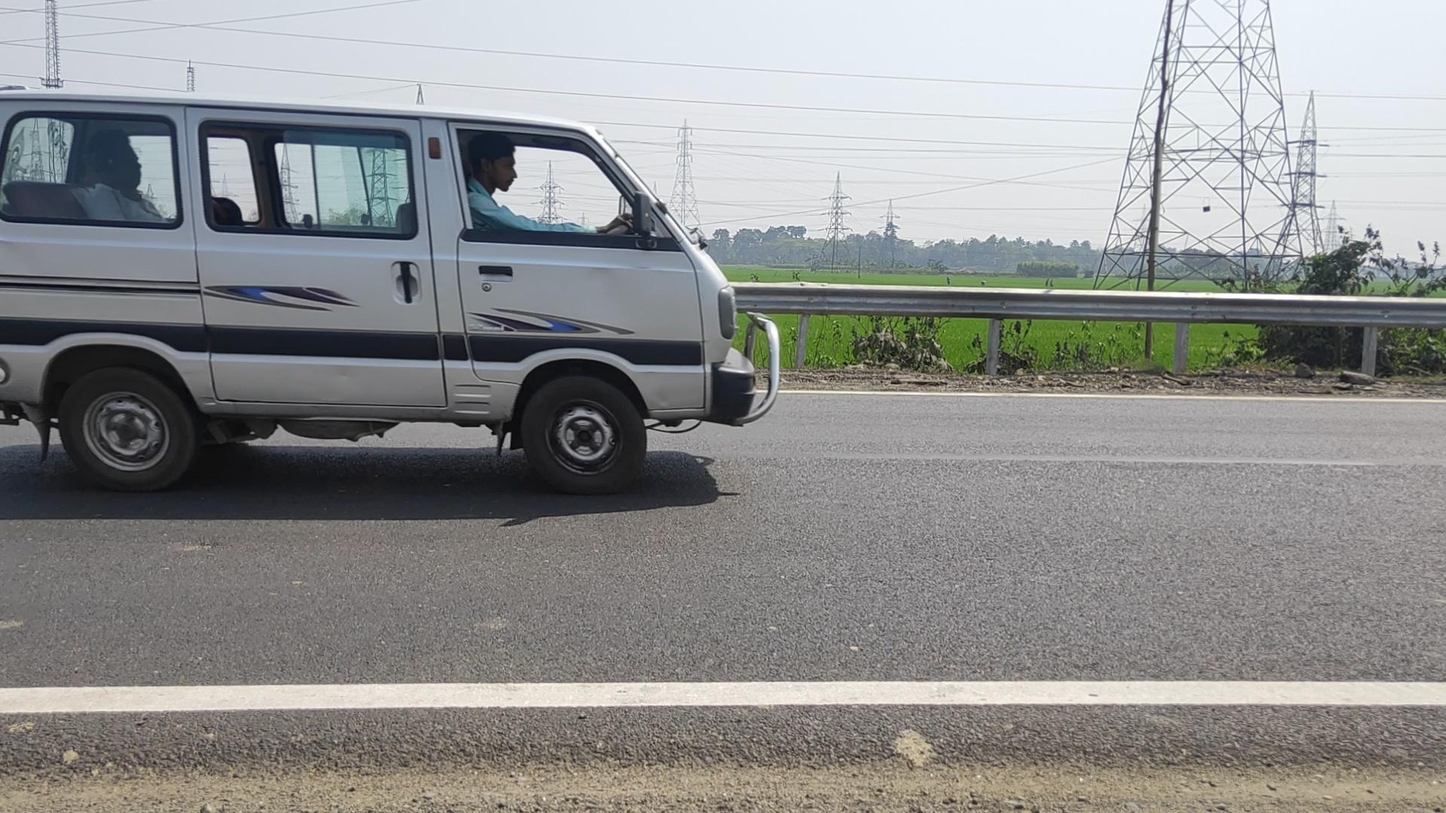van: (2, 83, 781, 499)
